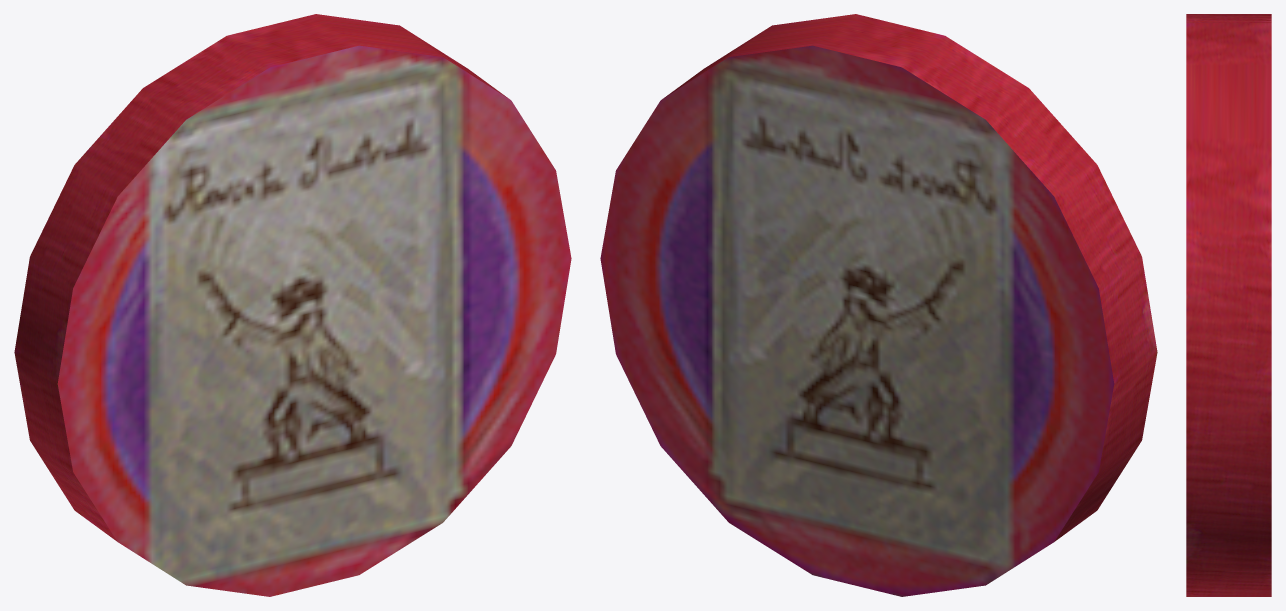
File: rev_ilustrada.FBX
The picture shows the model from 3 angles, left to right: view 1: azimuth 30°, elevation 25°; view 2: azimuth 150°, elevation 25°; view 3: azimuth 270°, elevation 25°; orthographic projection.
Parts seen in each view (by area): view 1: Cylinder001; view 2: Cylinder001; view 3: Cylinder001.
Part boxes in pixels (x1,y1,x2,y2): Cylinder001: (14,14,571,596); Cylinder001: (600,14,1157,596); Cylinder001: (1186,14,1271,596).
Bounding box in the file's own units: 0.9567 × 0.9422 × 0.1394.
Materials: 1 (1 with a texture image).
